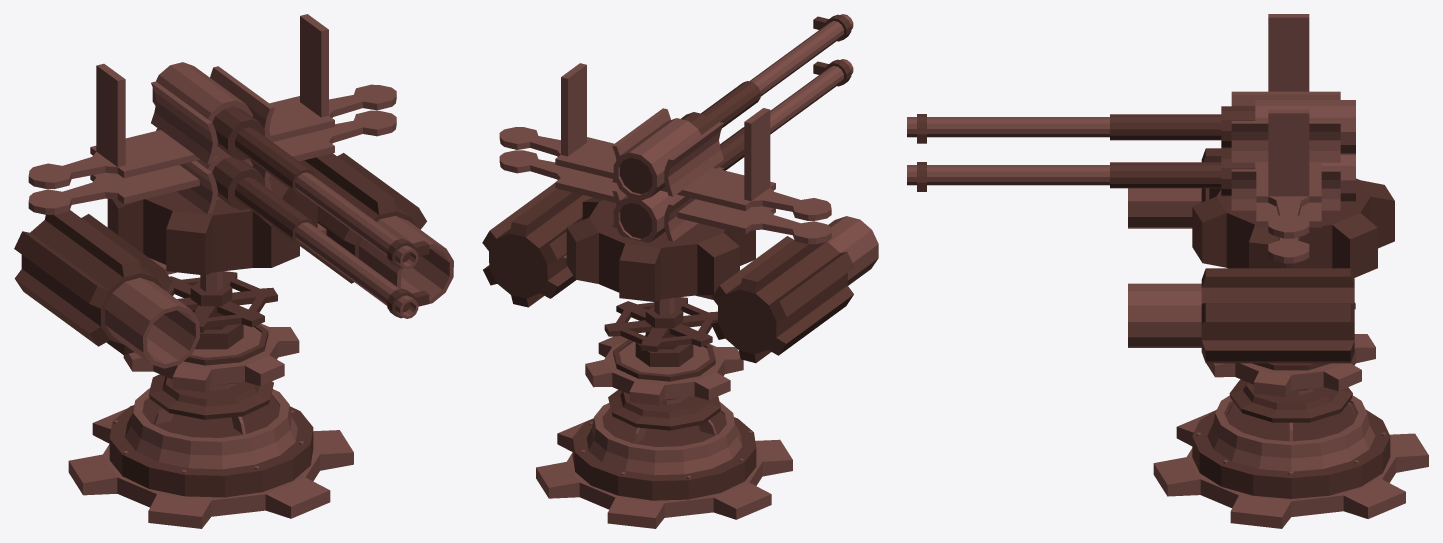
The model's file is quaternius-turret-pack-march-cannon-4.glb.
3 views of the same model, side by side, from view 1: azimuth 30°, elevation 25°; view 2: azimuth 150°, elevation 25°; view 3: azimuth 270°, elevation 25° (orthographic). The views are drawn at different scales.
Visible parts, largest first — view 1: Cannon_4_Base; view 2: Cannon_4_Base; view 3: Cannon_4_Base.
Boxes of the visible parts, x1,y1,x2,y2 form: Cannon_4_Base: [14, 14, 453, 528]; Cannon_4_Base: [482, 14, 878, 528]; Cannon_4_Base: [907, 14, 1428, 528].
Bounding box in the file's own units: 2.02 × 2.26 × 2.61.
